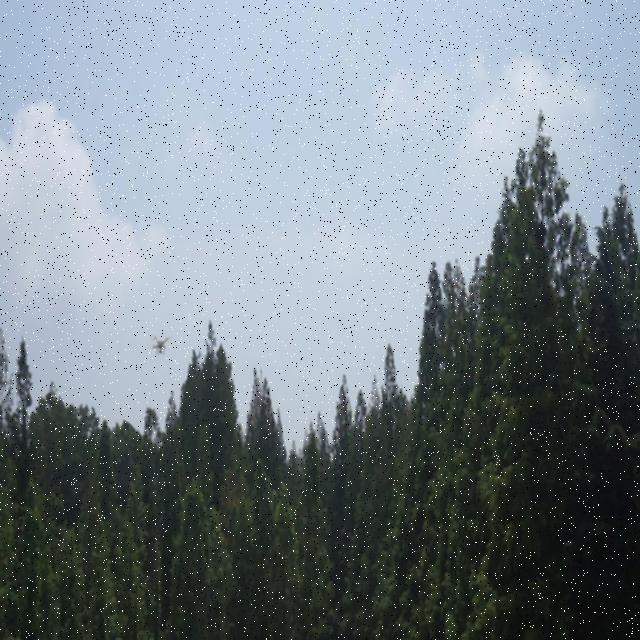UAV: (148, 334, 172, 357)
